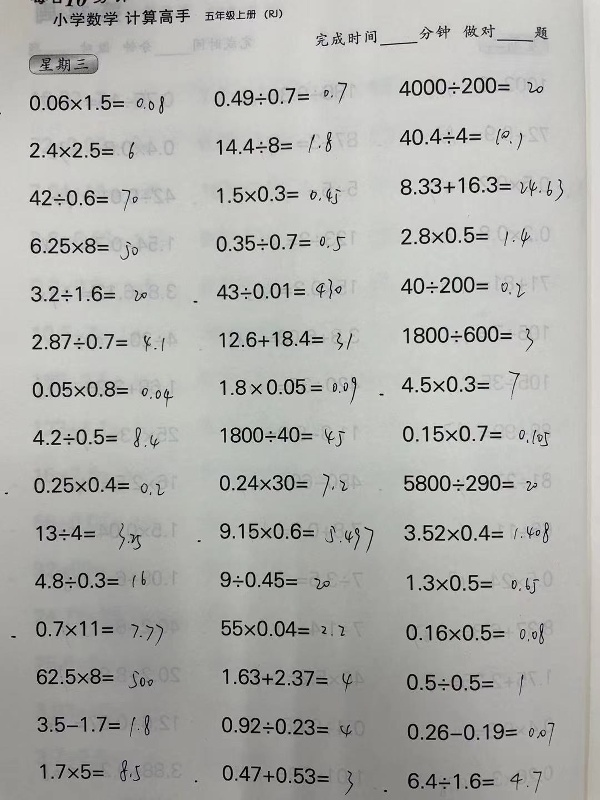equation: (214, 517, 376, 551), (216, 373, 360, 408), (217, 761, 356, 797), (398, 421, 553, 453), (395, 171, 566, 200), (29, 424, 162, 459), (398, 367, 523, 403), (403, 718, 558, 747), (400, 619, 549, 649), (400, 518, 553, 547), (31, 616, 163, 649), (398, 318, 537, 349), (27, 376, 175, 405), (215, 470, 351, 501), (402, 570, 542, 600), (28, 328, 168, 357), (394, 72, 544, 99), (396, 221, 533, 250), (209, 79, 349, 107), (403, 768, 544, 795), (395, 121, 525, 150), (217, 663, 355, 690), (24, 89, 167, 115), (212, 274, 344, 302), (35, 521, 150, 553), (215, 325, 355, 351), (32, 710, 152, 740), (27, 281, 151, 310), (28, 471, 166, 497), (216, 567, 335, 597), (395, 271, 527, 298), (212, 229, 348, 255), (25, 185, 139, 216), (401, 669, 527, 697), (399, 469, 540, 494), (216, 713, 354, 738), (211, 128, 334, 156), (215, 421, 347, 447), (26, 233, 144, 262), (212, 180, 343, 206), (32, 664, 154, 691), (33, 759, 149, 787), (216, 615, 347, 639), (25, 138, 141, 163), (30, 567, 148, 591)
